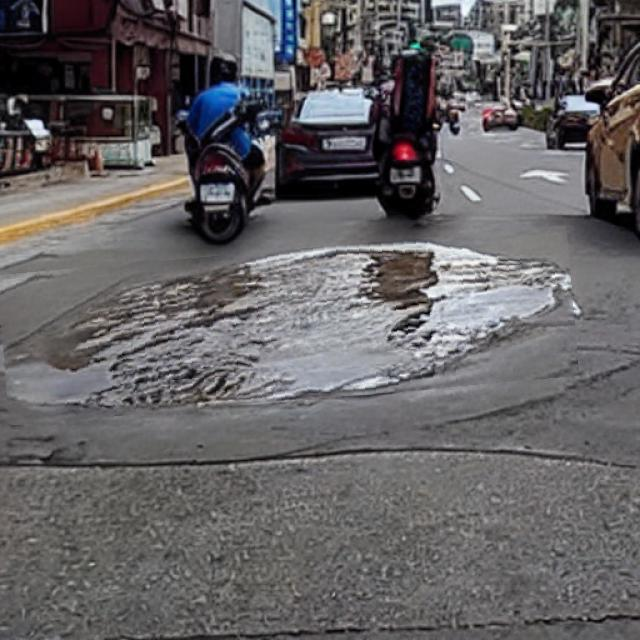puddle: (1, 238, 578, 414)
